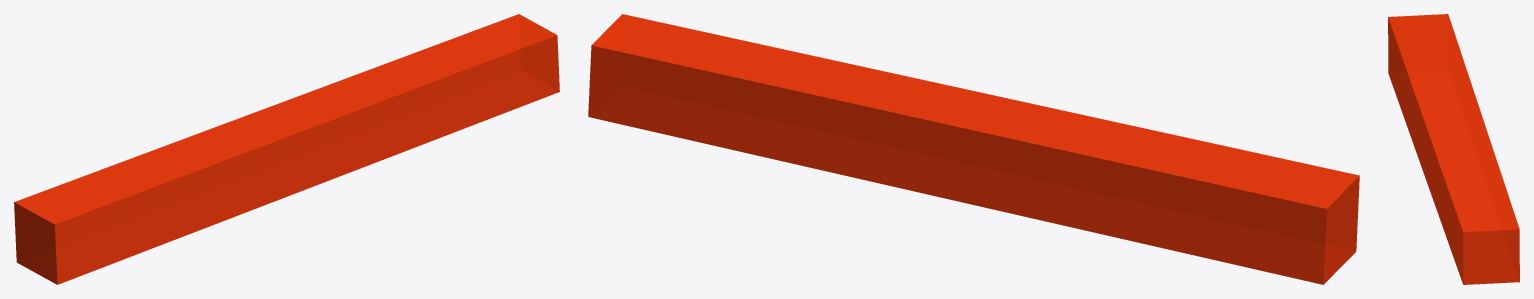
File: Event_420604493_EErechit_28.fbx
3 views of the same model, side by side, from view 1: azimuth 30°, elevation 25°; view 2: azimuth 150°, elevation 25°; view 3: azimuth 270°, elevation 25° (orthographic). The views are drawn at different scales.
Visible parts, largest first — view 1: Model; view 2: Model; view 3: Model.
Boxes of the visible parts, <box> form: Model: <box>14,14,559,284</box>; Model: <box>588,14,1359,284</box>; Model: <box>1388,14,1519,284</box>.
Bounding box in the file's own units: 0.7317 × 0.1103 × 0.1676.
